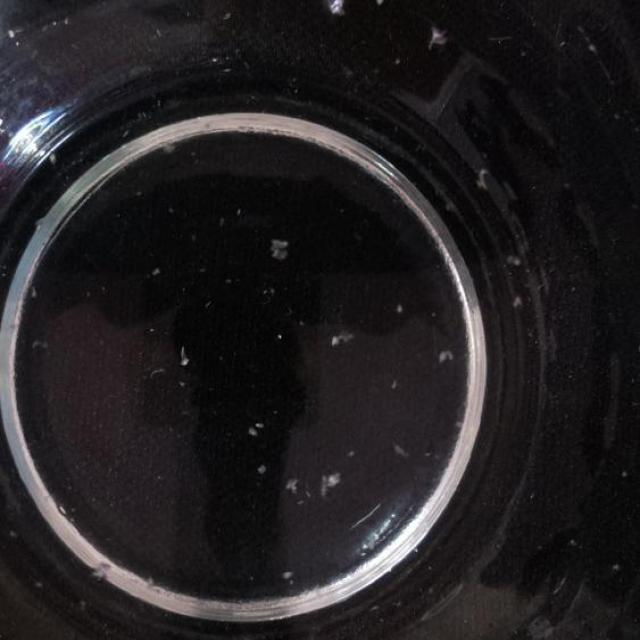fiber: (426, 22, 459, 54), (268, 234, 294, 264), (318, 465, 341, 492), (88, 558, 111, 584), (320, 0, 361, 14), (33, 335, 56, 359), (233, 200, 252, 229), (468, 160, 490, 184), (149, 24, 167, 50), (388, 441, 408, 464), (281, 477, 301, 496), (256, 458, 274, 479), (149, 363, 167, 382), (331, 328, 352, 344), (438, 343, 454, 364), (182, 344, 193, 370), (242, 419, 255, 440), (250, 416, 264, 435), (393, 299, 407, 318), (282, 559, 292, 584), (510, 248, 518, 275), (162, 138, 172, 159), (221, 8, 233, 25), (30, 285, 43, 299), (375, 0, 391, 11), (388, 380, 397, 398), (154, 259, 162, 275), (506, 292, 517, 303)
